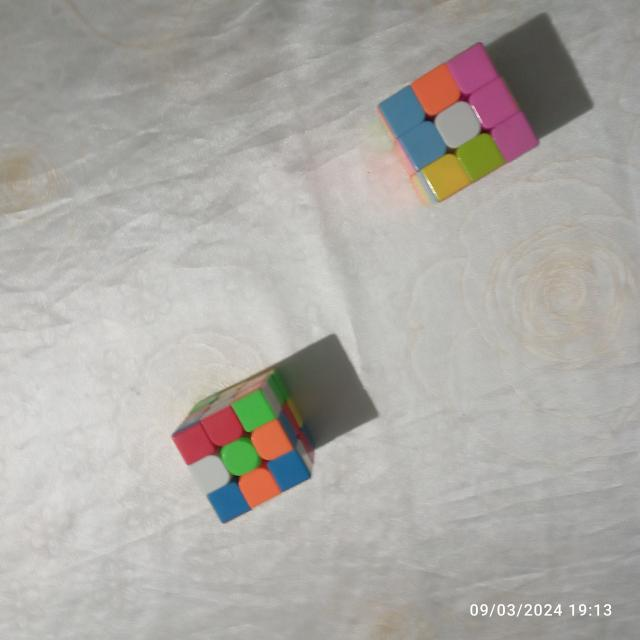Rub: (372, 40, 543, 205), (168, 362, 320, 532)
